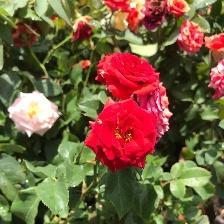rose: (85, 98, 160, 175), (94, 52, 168, 98)
